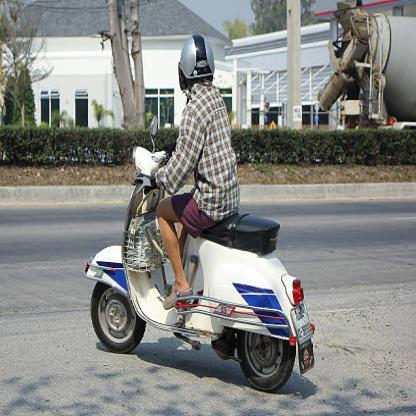Motorcycle: (71, 130, 319, 394)
